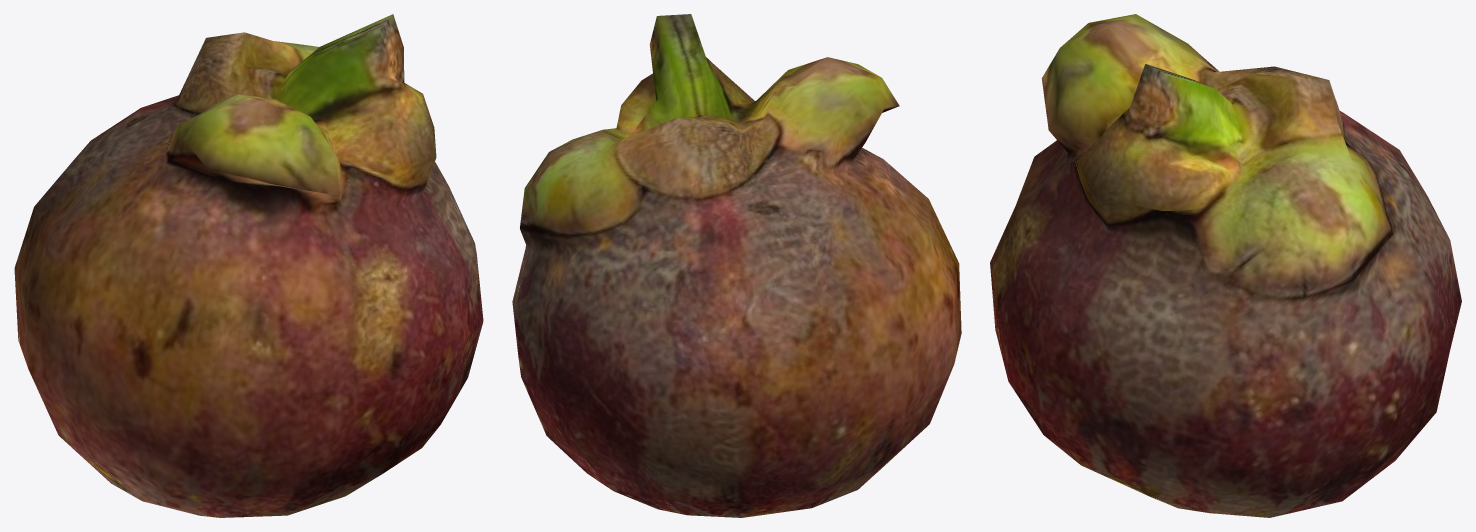
Rendered from A127_Mangosteen_low.fbx.
3 views of the same model, side by side, from view 1: azimuth 30°, elevation 25°; view 2: azimuth 150°, elevation 25°; view 3: azimuth 270°, elevation 25° (orthographic). The views are drawn at different scales.
Parts seen in each view (by area): view 1: A127_Mangosteen_low; view 2: A127_Mangosteen_low; view 3: A127_Mangosteen_low.
Part boxes in pixels (<box>): A127_Mangosteen_low: <box>14,14,483,517</box>; A127_Mangosteen_low: <box>512,14,961,517</box>; A127_Mangosteen_low: <box>990,14,1461,517</box>.
Size of the model in its own units: 6.77 by 6.69 by 7.3.
Materials: 1 (1 with a texture image).
